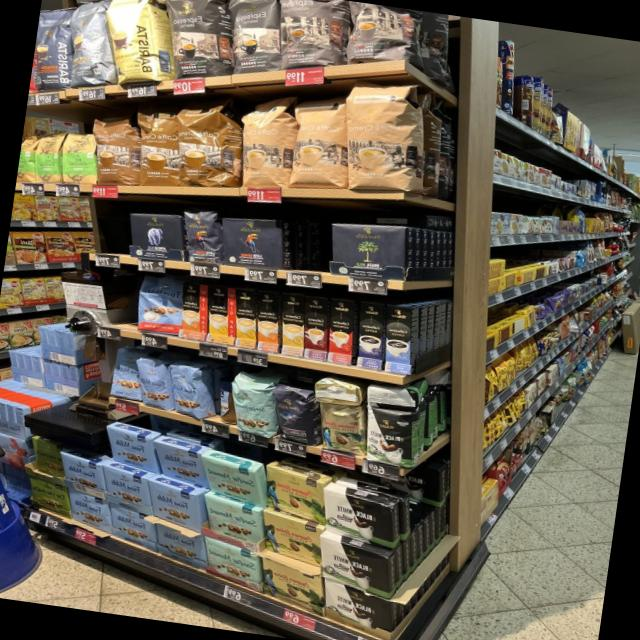AB Gemahlen: (129, 213, 187, 263)
Athiopien Gemahlen: (60, 131, 96, 187), (31, 131, 65, 186)
BM Bohne: (361, 404, 418, 468)
BM Gemahlen: (330, 221, 409, 280)
BW Gemahlen: (321, 486, 398, 552), (319, 536, 391, 603), (322, 576, 394, 640)
Barista CB: (102, 0, 171, 86)
Barista CC: (67, 0, 117, 89)
Barista Espresso: (33, 4, 74, 94)
C Fino Bohne: (274, 384, 317, 449)
CC Mild: (344, 83, 410, 194), (286, 97, 347, 191), (238, 99, 294, 190)
CC Vollmundig 36 Pads: (176, 102, 237, 189), (134, 109, 176, 188), (92, 115, 137, 187)
Colombia BB Bohne: (317, 402, 366, 458)
Colombia BB Gemahlen: (260, 552, 322, 618), (263, 463, 327, 526), (261, 509, 324, 568)
Empty Shelf: (287, 219, 328, 273)
Espresso Aromatisch: (278, 0, 350, 72)
Espresso Kraftig: (165, 0, 231, 81), (227, 0, 281, 76)
FM 36 Pads: (134, 272, 183, 340)
FM Bohne: (137, 353, 172, 413), (169, 360, 201, 423)
FM Gemahlen: (103, 424, 162, 476), (147, 479, 202, 534), (152, 516, 205, 572), (153, 439, 209, 491), (106, 501, 158, 555), (101, 465, 152, 516), (66, 486, 110, 534), (60, 453, 104, 499)
Herzhatfe Mundig: (26, 476, 71, 519)
LG Bohne: (182, 208, 220, 266)
LG Gemahlen: (221, 216, 283, 271)
SM Bohne: (232, 375, 278, 442)
SM Gemahlen: (202, 534, 262, 593), (203, 492, 260, 554), (200, 453, 261, 508)
Simo CCMild: (203, 283, 235, 348)
Simo CCMild bigpack: (232, 287, 258, 351)
Simo CCVollmundig: (177, 281, 208, 342)
Simo CCVollmundig bigpack: (254, 290, 280, 355)
Simo Decaff: (279, 291, 306, 360)
Simo Es Elegant: (324, 295, 358, 368)
Simo Es Kraft: (301, 294, 329, 363)
Simo Kaffee Kraft: (354, 300, 387, 372)
Simo Kaffee Mild: (382, 305, 415, 375)
